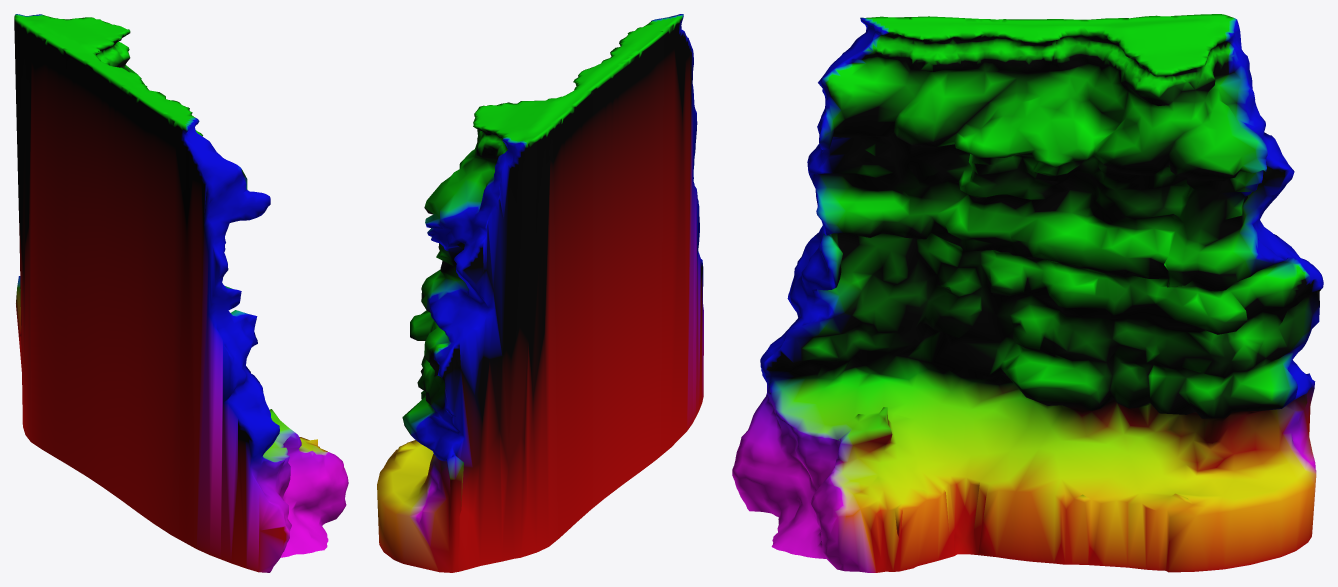
File: desert-xl-b.glb
The picture shows the model from 3 angles, left to right: view 1: azimuth 30°, elevation 25°; view 2: azimuth 150°, elevation 25°; view 3: azimuth 270°, elevation 25°; orthographic projection. The views are drawn at different scales.
Parts seen in each view (by area): view 1: desert-xl-b_lod0; view 2: desert-xl-b_lod0; view 3: desert-xl-b_lod0.
Boxes of the visible parts, <box> form: desert-xl-b_lod0: <box>14,14,348,572</box>; desert-xl-b_lod0: <box>377,14,703,572</box>; desert-xl-b_lod0: <box>732,14,1323,572</box>.
Size of what is drawn, in the model's own units: 9.14 by 22.56 by 25.45.
